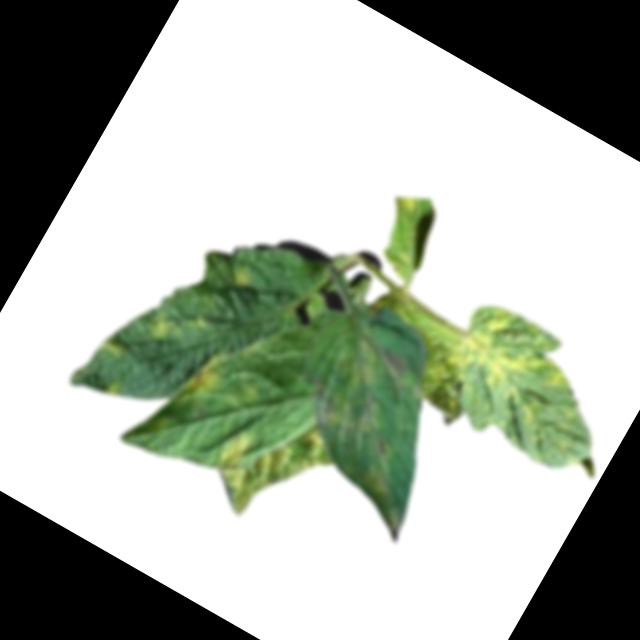Leaf_Mold: (203, 392, 346, 542), (295, 318, 431, 459), (437, 295, 578, 427), (316, 444, 426, 545), (175, 341, 233, 409), (208, 423, 258, 475), (142, 308, 180, 346), (225, 264, 257, 296)
